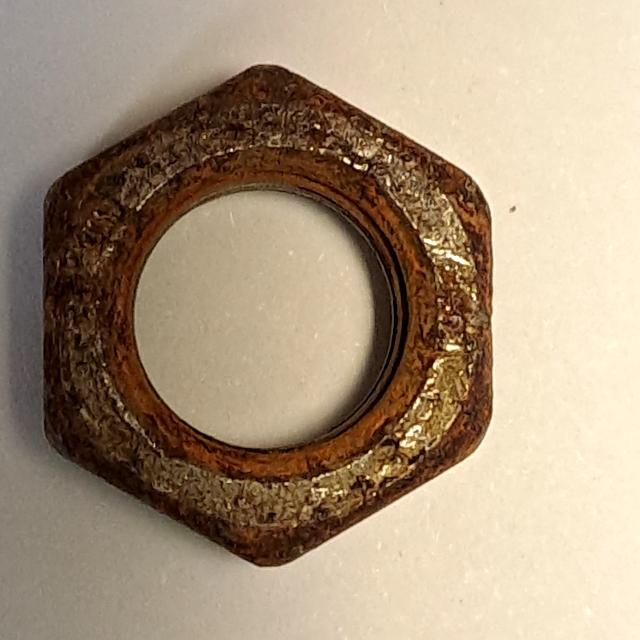Rust: (17, 44, 521, 589)
